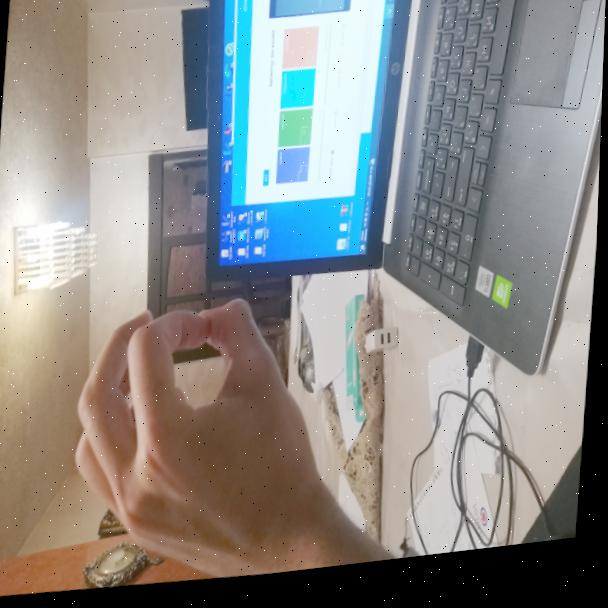five: (63, 268, 338, 592)
